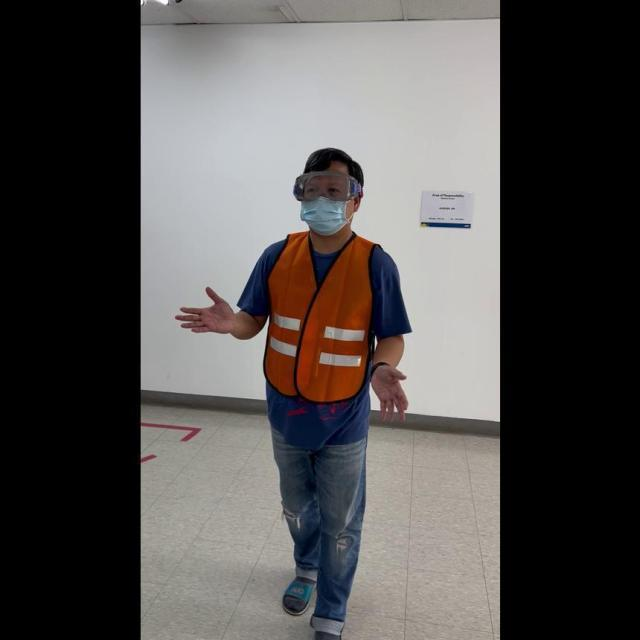bare_hand: (173, 283, 233, 336), (368, 359, 409, 425)
